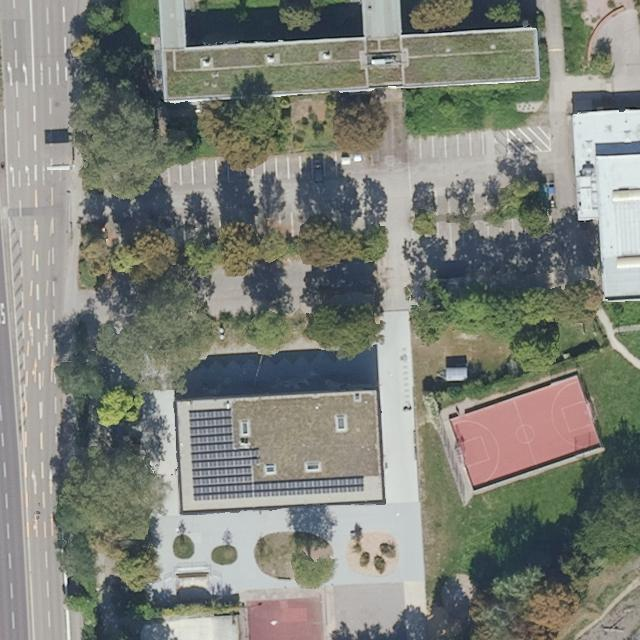PV: (186, 405, 367, 504)
